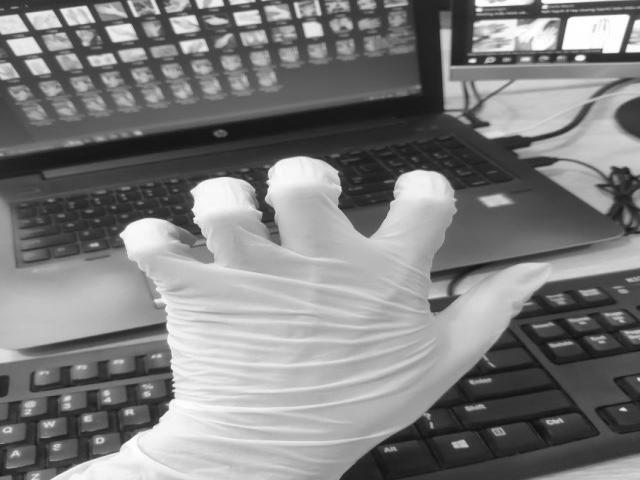gloved: (117, 153, 554, 473)
